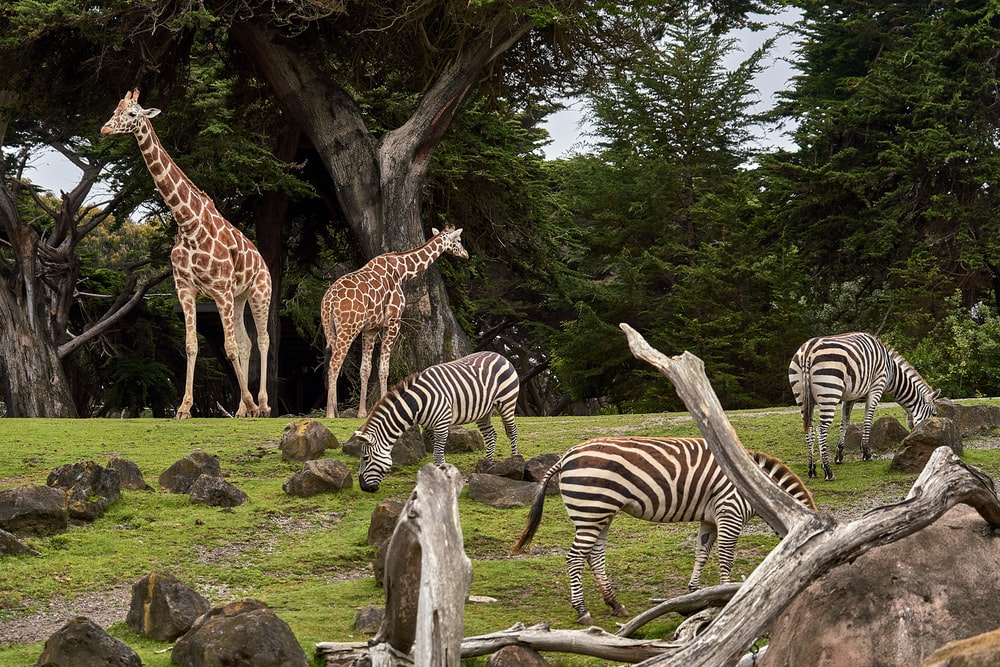giraffe: (88, 81, 282, 424), (312, 216, 479, 426), (462, 245, 479, 262)
grass: (0, 408, 433, 667), (455, 486, 589, 641), (599, 503, 707, 621), (510, 403, 710, 464), (803, 441, 931, 527), (721, 395, 818, 486), (724, 510, 784, 588), (576, 560, 626, 641), (957, 423, 1000, 504), (535, 643, 641, 667), (867, 389, 915, 436), (482, 408, 520, 462), (633, 608, 694, 641), (821, 395, 849, 464), (445, 443, 495, 481), (949, 389, 1000, 417), (843, 393, 872, 433), (848, 397, 865, 414)
rock: (747, 498, 1000, 667), (119, 561, 322, 667), (0, 449, 165, 565), (348, 481, 430, 661), (885, 394, 1000, 478), (28, 609, 156, 667), (462, 444, 568, 514), (155, 445, 261, 511), (279, 450, 362, 506), (271, 411, 349, 468), (386, 417, 435, 476), (862, 409, 913, 460), (480, 637, 563, 667), (440, 420, 493, 460), (835, 414, 868, 459), (334, 423, 368, 464)
tree: (0, 0, 1000, 426), (310, 316, 1000, 667), (186, 290, 249, 423), (331, 326, 369, 423), (238, 299, 268, 408), (362, 327, 392, 417)
zebra: (505, 429, 766, 632), (345, 343, 528, 500), (780, 325, 949, 486), (739, 439, 827, 518)
